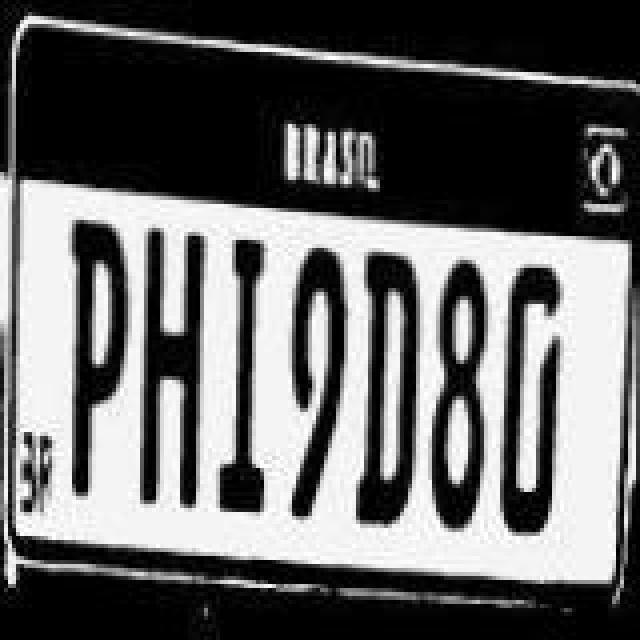8: (432, 254, 492, 542)
9: (286, 242, 358, 518)
D: (358, 242, 422, 534), (502, 252, 566, 536)
H: (138, 226, 210, 514)
I: (218, 234, 282, 522)
P: (60, 216, 128, 508)
